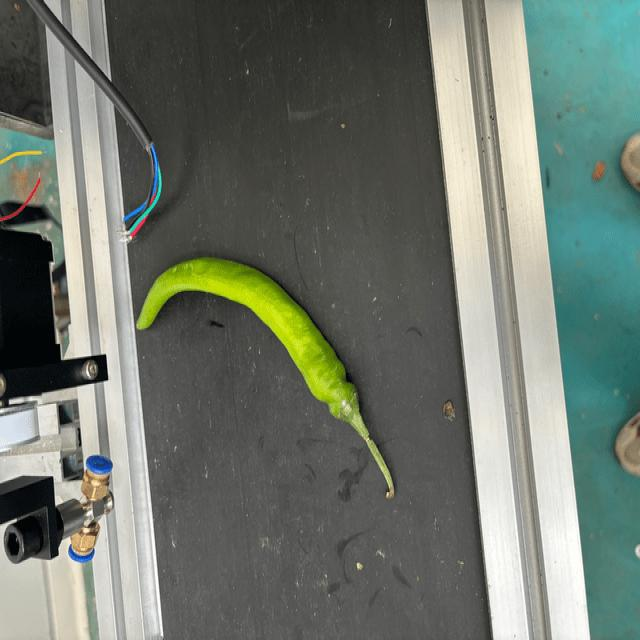chili: (137, 257, 361, 427)
